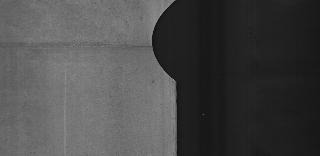welding line: (0, 38, 152, 56)
